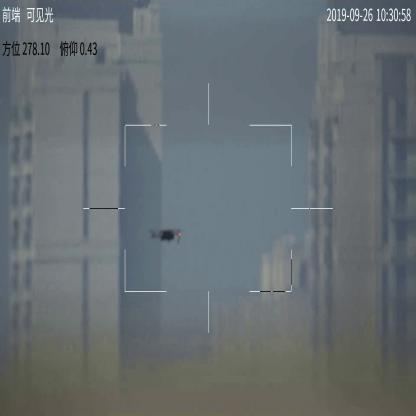uav: (147, 226, 188, 245)
